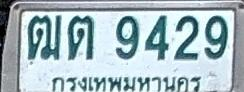2: (173, 15, 198, 60)
4: (144, 14, 169, 60)
9: (115, 15, 139, 59), (204, 15, 228, 59)
A18: (27, 14, 62, 60)
A21: (67, 15, 94, 60)
BKK: (49, 72, 206, 92)
